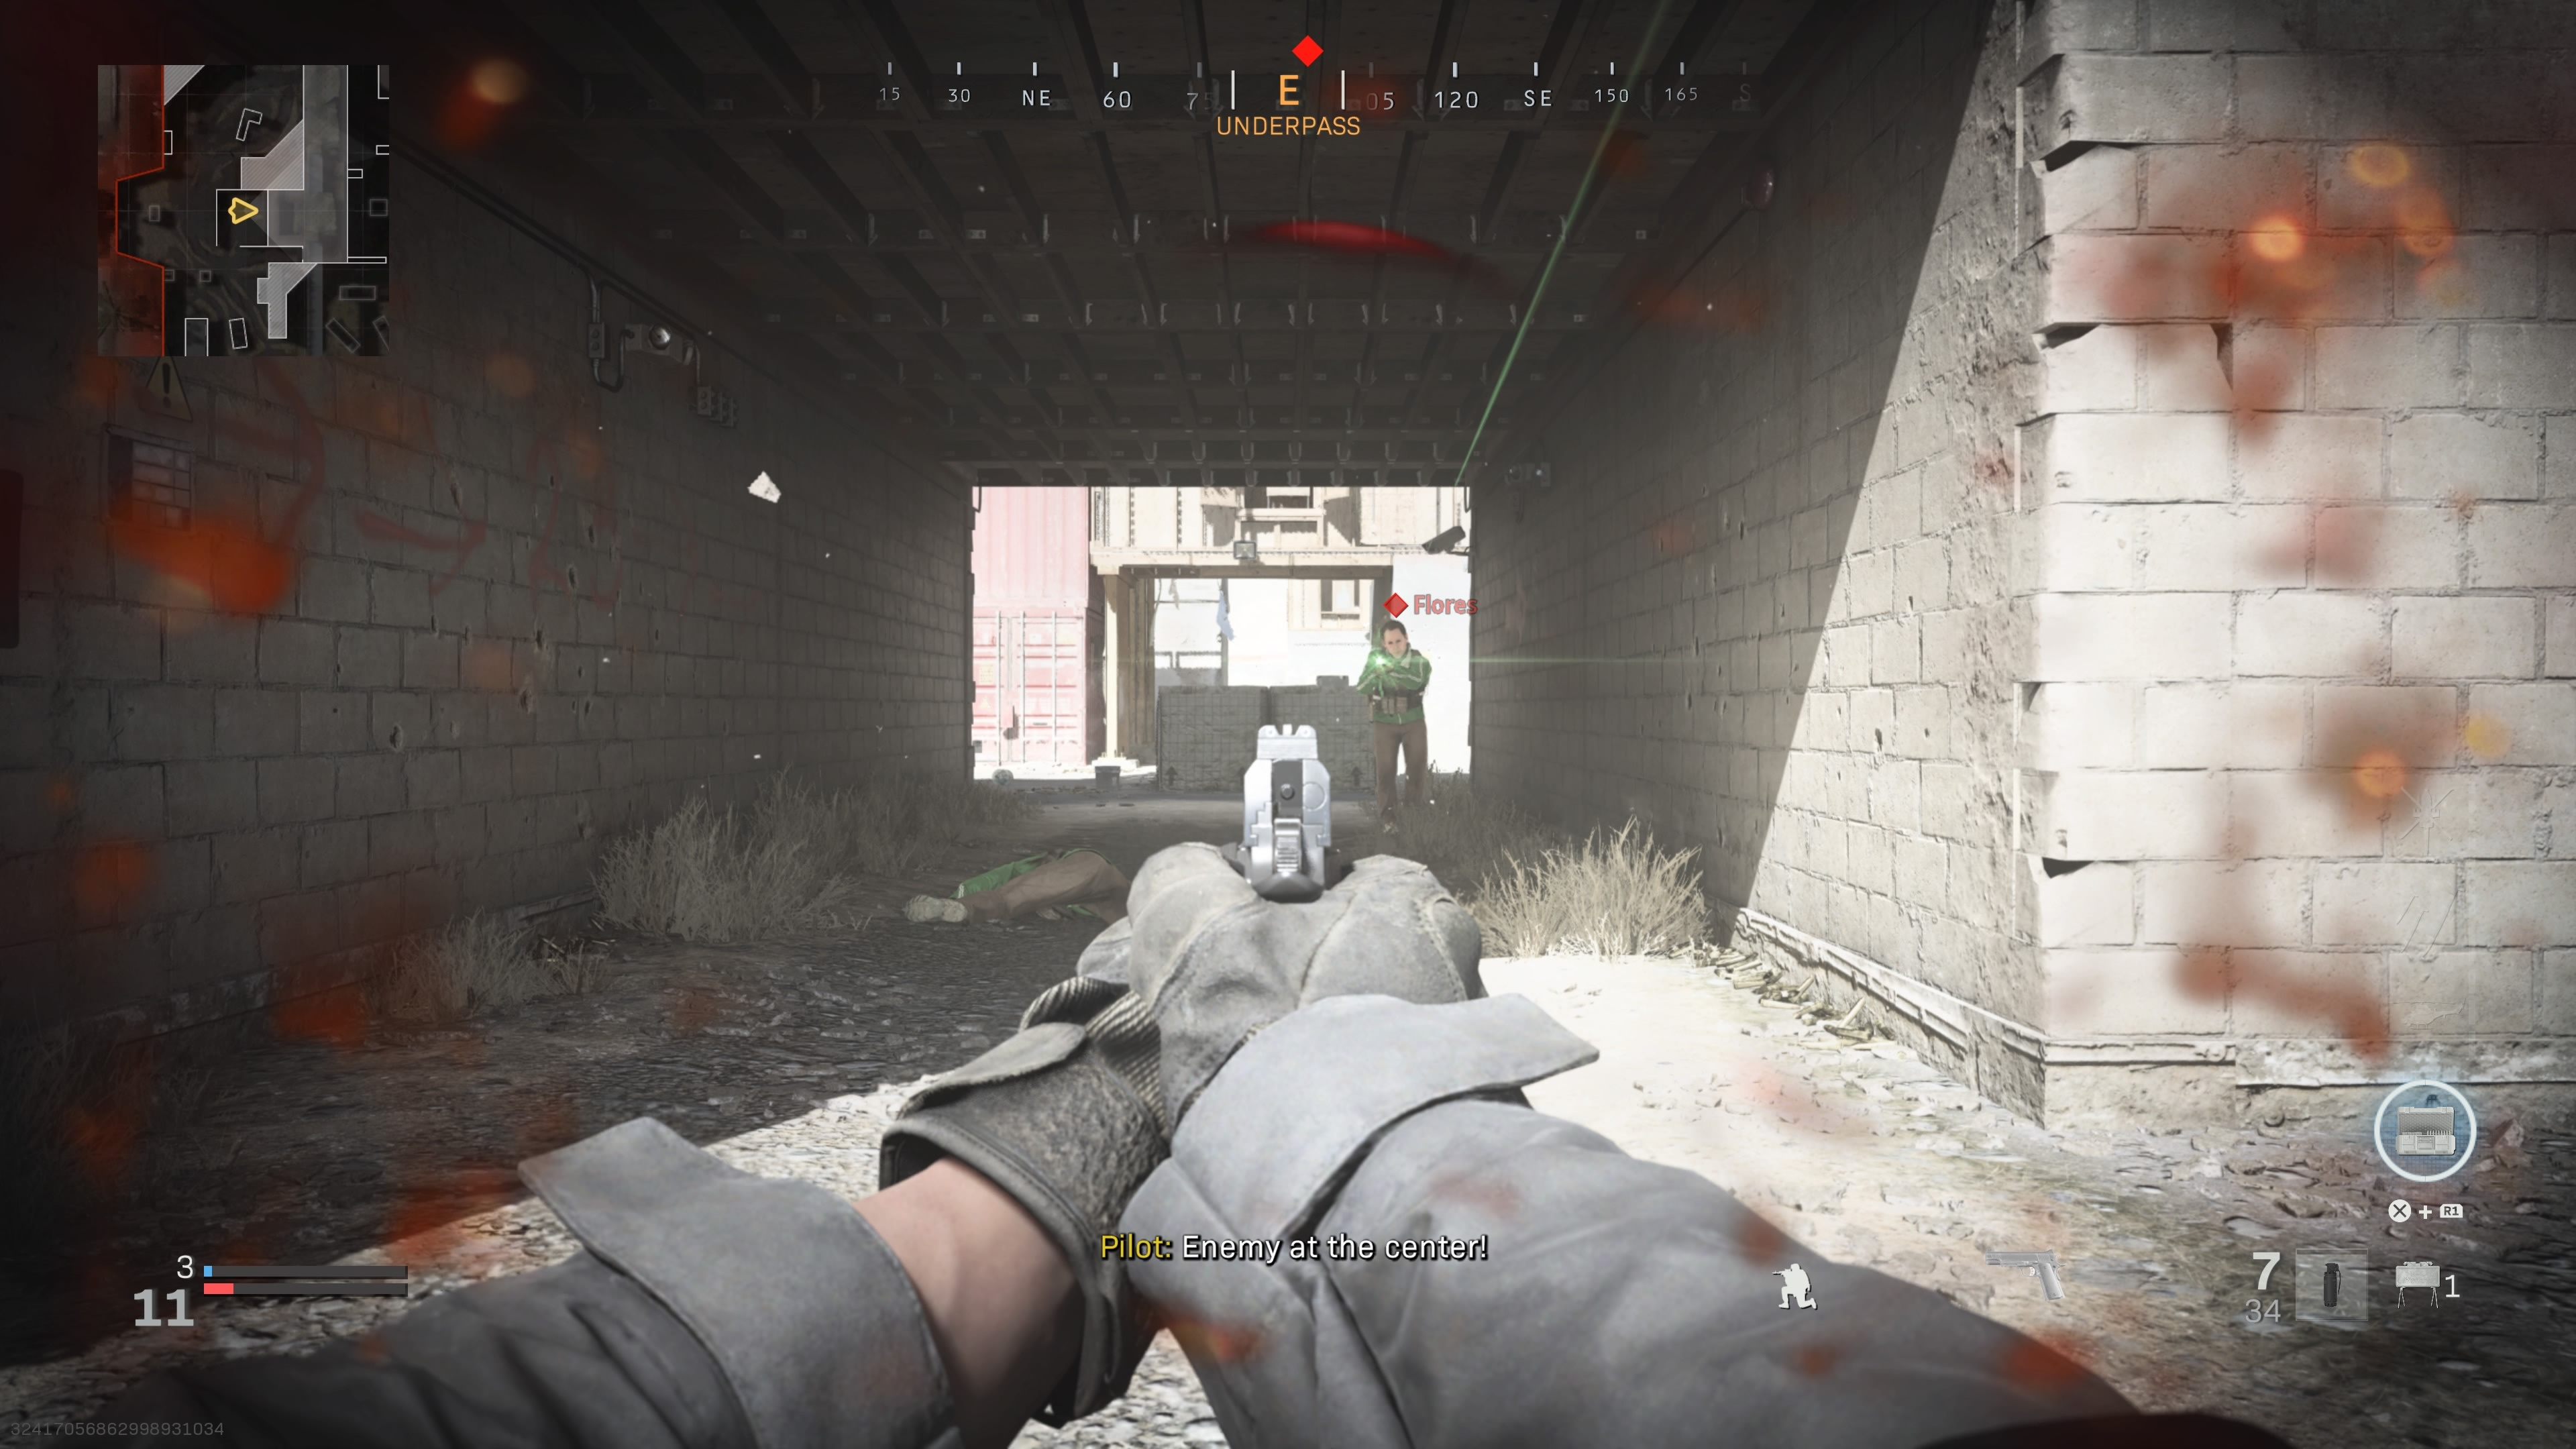head: (1378, 620, 1413, 661)
person: (1351, 610, 1432, 826)
